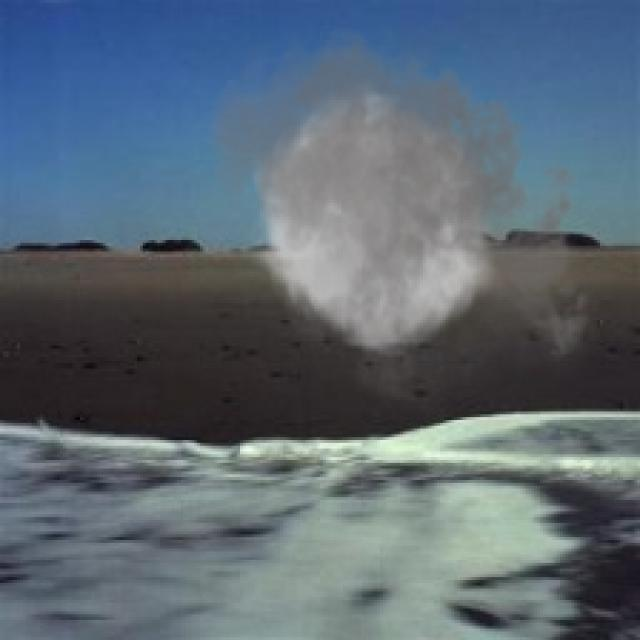Smoke: (194, 14, 603, 426)
